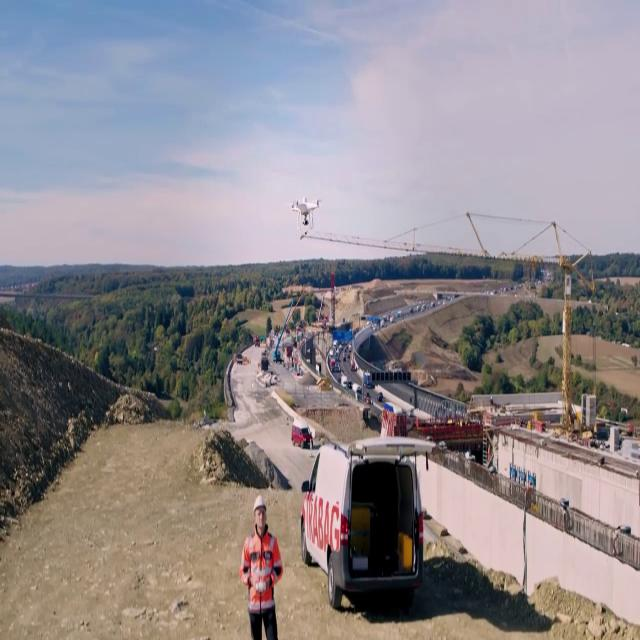drone: (289, 193, 325, 230)
